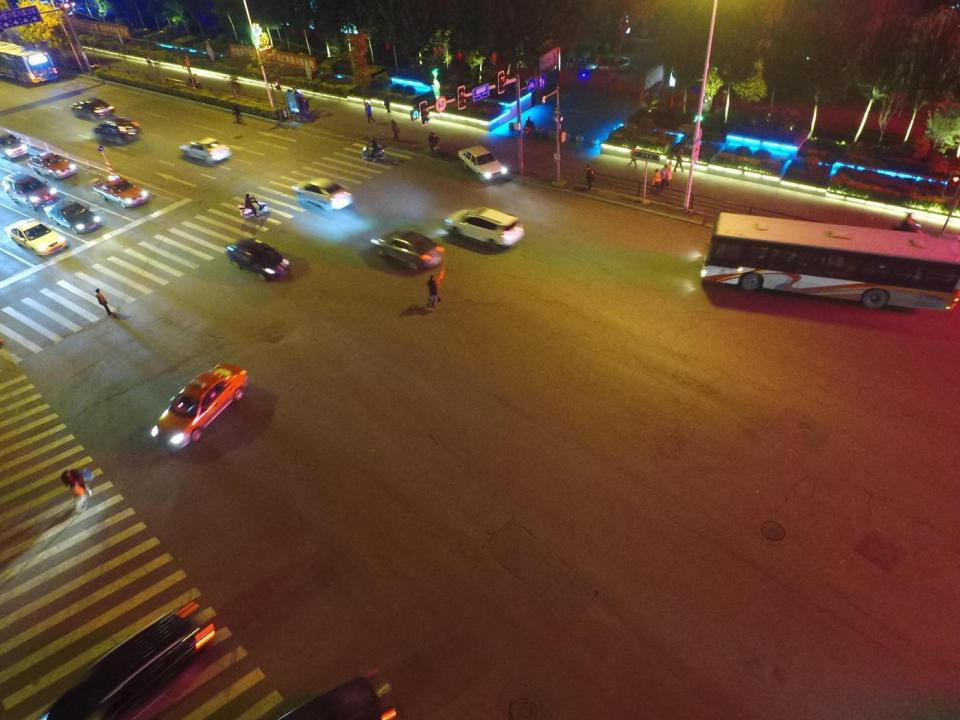bus: (697, 211, 960, 314), (0, 40, 55, 89)
car: (28, 611, 219, 720), (150, 360, 253, 454), (442, 205, 525, 251), (366, 231, 446, 268), (226, 241, 294, 283), (1, 215, 67, 256), (295, 175, 356, 212), (457, 144, 511, 183), (48, 199, 108, 234), (94, 172, 150, 209), (25, 147, 81, 182), (7, 175, 59, 210), (176, 136, 232, 166), (94, 114, 141, 142), (69, 96, 116, 121), (1, 125, 28, 162)
